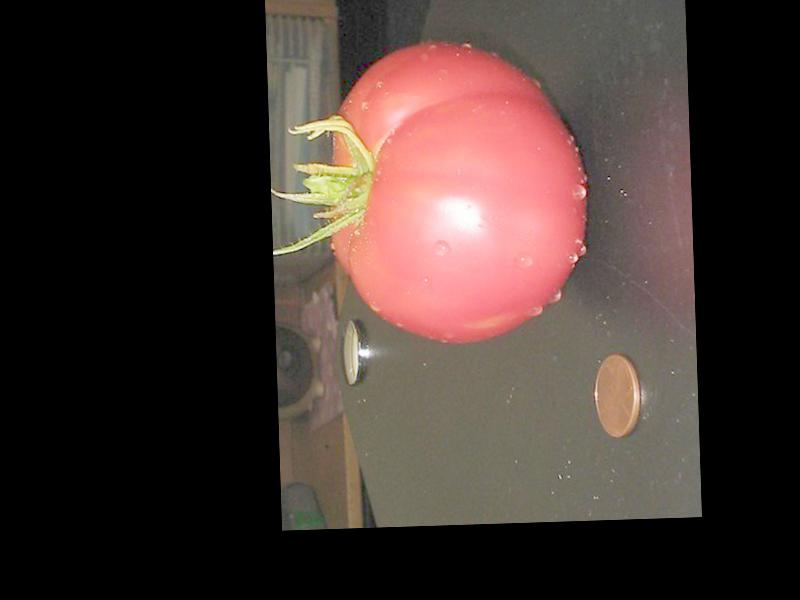Tomato: (323, 36, 591, 345)
